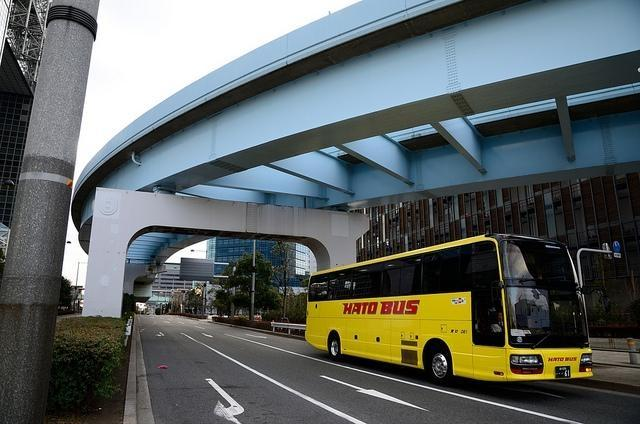bus: (303, 234, 594, 384)
